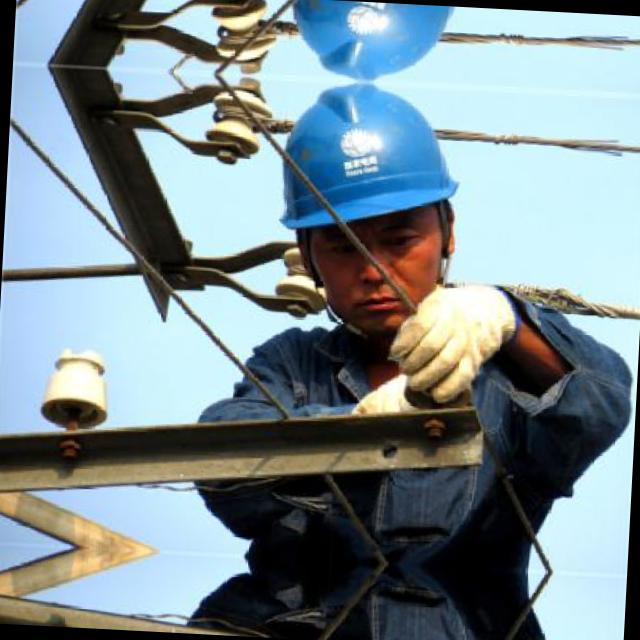helmet: (252, 83, 482, 347), (264, 0, 486, 83)
